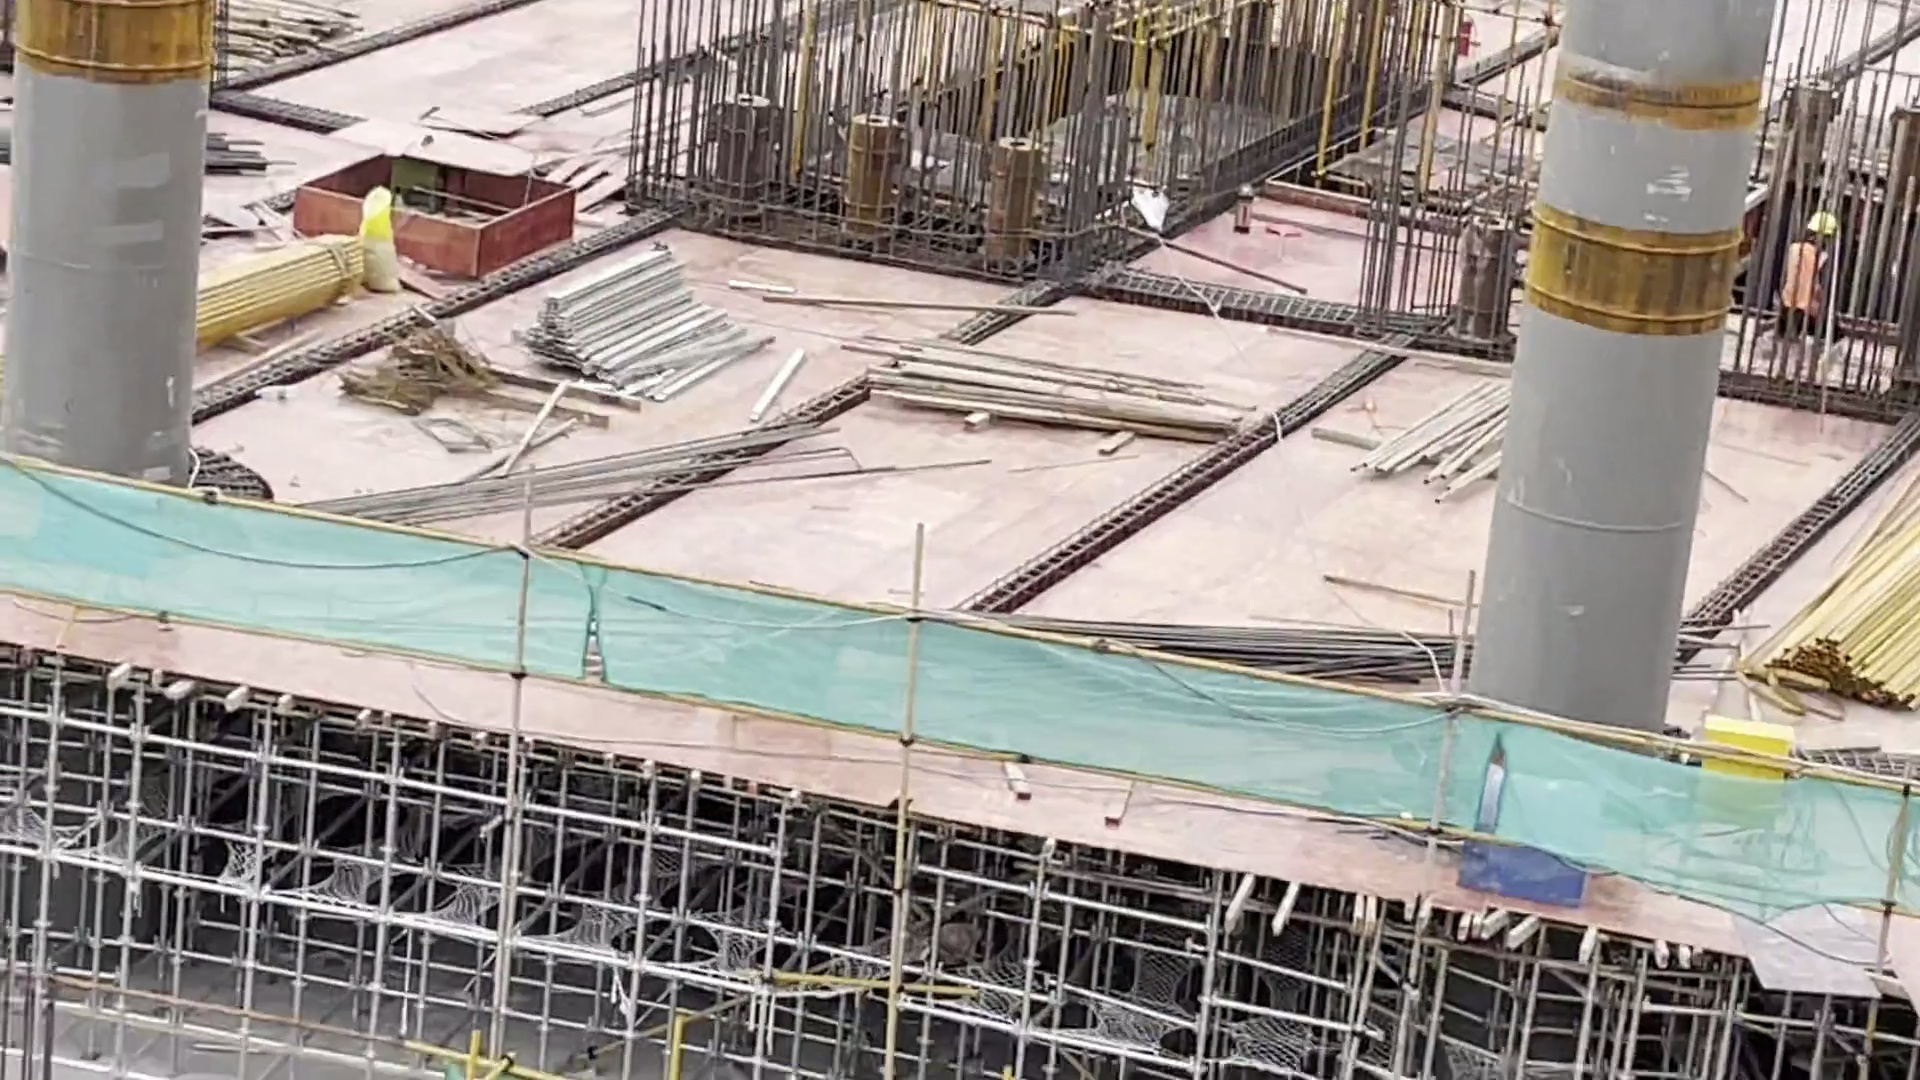wood: (837, 332, 1261, 446)
